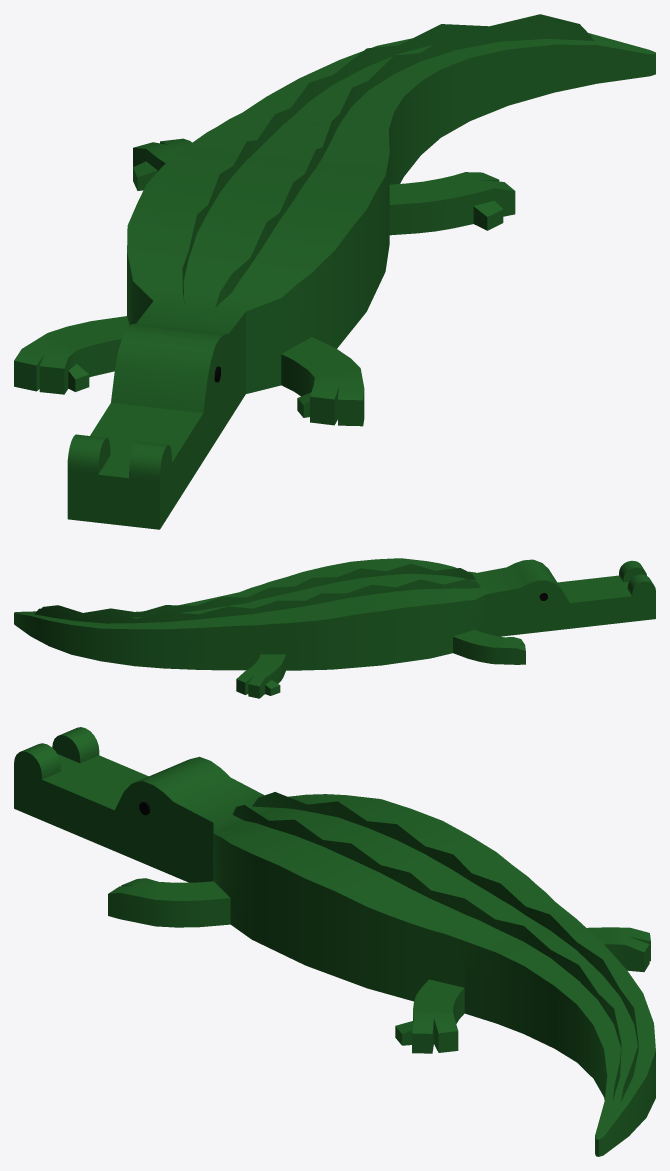
Rendered from crocodile.glb.
The picture shows the model from 3 angles, top to bottom: view 1: azimuth 30°, elevation 25°; view 2: azimuth 150°, elevation 25°; view 3: azimuth 270°, elevation 25°; orthographic projection. The views are drawn at different scales.
Visible parts, largest first — view 1: Cube.043; view 2: Cube.043; view 3: Cube.043.
Part boxes in pixels (x1,y1,x2,y2): Cube.043: (14,14,655,529); Cube.043: (14,558,655,698); Cube.043: (14,727,655,1156).
Bounding box in the file's own units: 2.35 × 0.308 × 1.71.
1 material, 1 textured.
